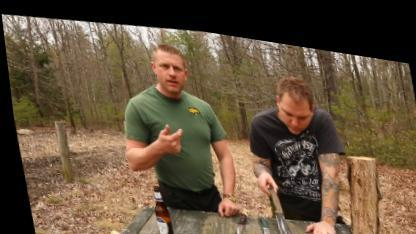knife: (253, 166, 290, 233)
